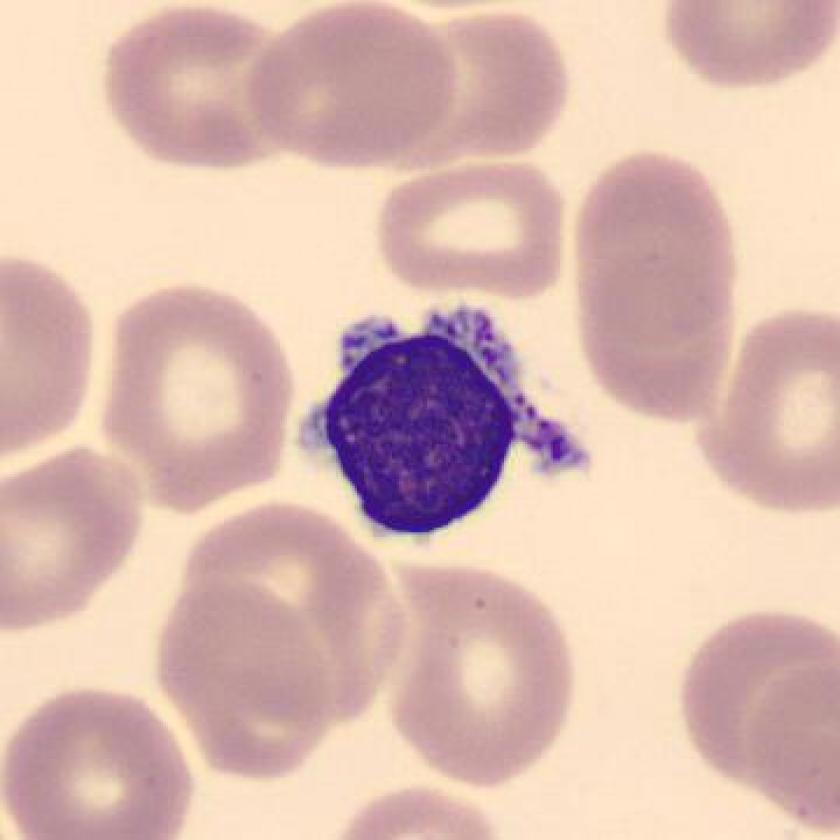lymphocyte: (288, 300, 605, 557)
